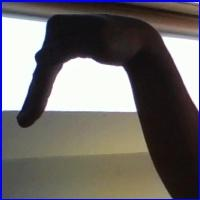A: (11, 9, 172, 138)
